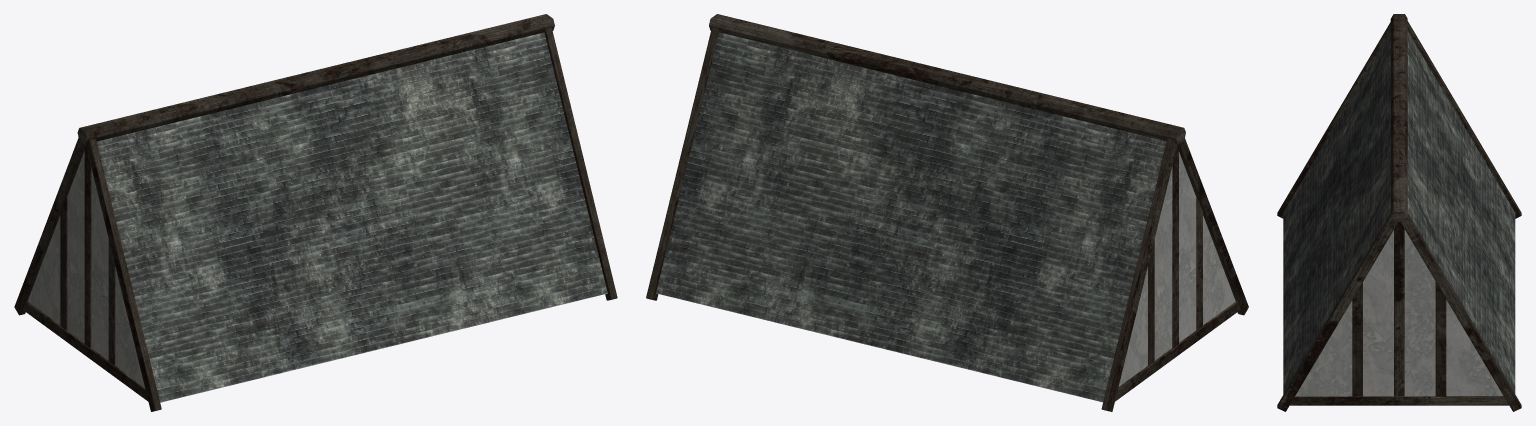
Rendered from CastleRoofPlaster.fbx.
3 renders of one model, left to right at view 1: azimuth 30°, elevation 25°; view 2: azimuth 150°, elevation 25°; view 3: azimuth 270°, elevation 25°, orthographic. The views are drawn at different scales.
Parts seen in each view (by area): view 1: Castle Tower Roof Plaster; view 2: Castle Tower Roof Plaster; view 3: Castle Tower Roof Plaster.
Boxes of the visible parts, bbox=[...] form: Castle Tower Roof Plaster: bbox=[14, 14, 617, 411]; Castle Tower Roof Plaster: bbox=[646, 14, 1248, 411]; Castle Tower Roof Plaster: bbox=[1277, 14, 1521, 411].
Size of the model in its own units: 1231 by 589 by 645.
